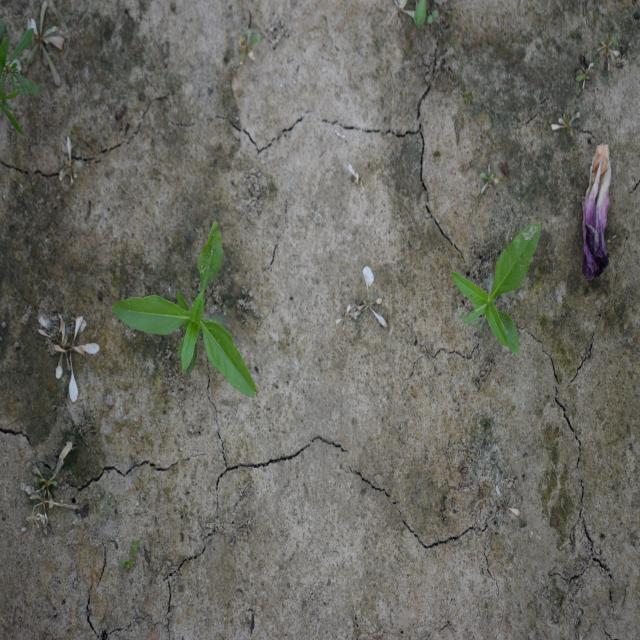Eclipta: (111, 219, 258, 400), (451, 221, 542, 358)
